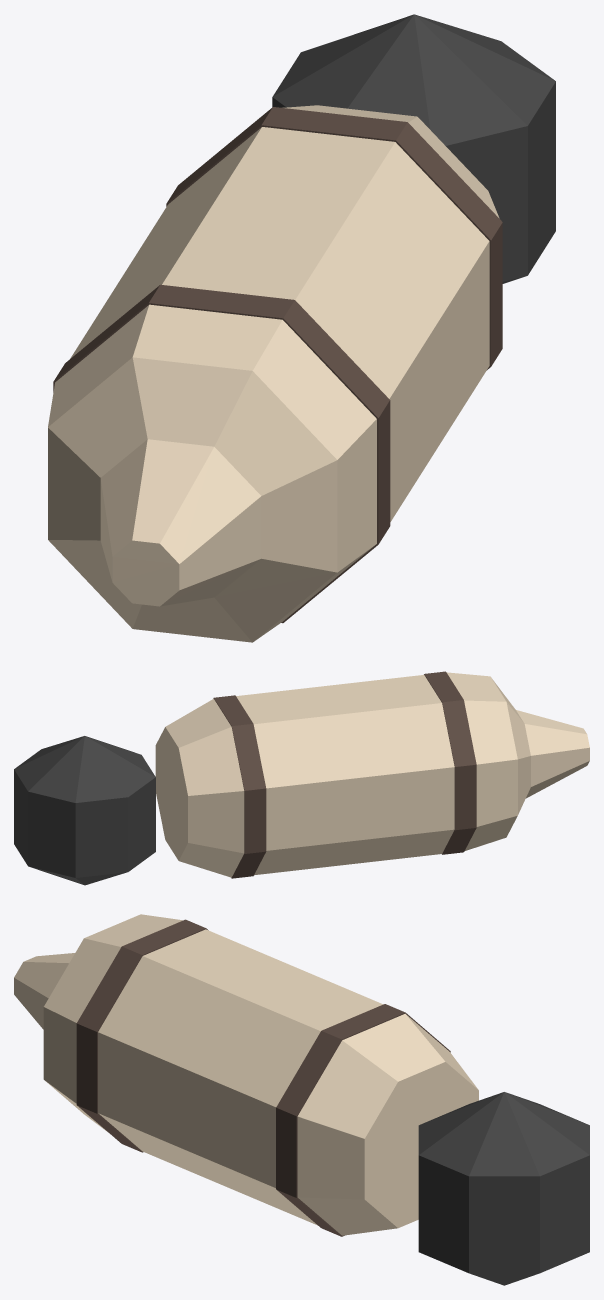
File: ce_ammo2_powder_round_a.obj
3 views of the same model, one above another, from view 1: azimuth 30°, elevation 25°; view 2: azimuth 150°, elevation 25°; view 3: azimuth 270°, elevation 25° (orthographic). The views are drawn at different scales.
Parts seen in each view (by area): view 1: ce_ammo2_powder_round_a_4, ce_ammo2_powder_round_a_1, ce_ammo2_powder_round_a_7, ce_ammo2_powder_round_a_2, ce_ammo2_powder_round_a_0, ce_ammo2_powder_round_a_3, ce_ammo2_powder_round_a_5, ce_ammo2_powder_round_a_6; view 2: ce_ammo2_powder_round_a_4, ce_ammo2_powder_round_a_7, ce_ammo2_powder_round_a_6, ce_ammo2_powder_round_a_2, ce_ammo2_powder_round_a_5, ce_ammo2_powder_round_a_3, ce_ammo2_powder_round_a_0, ce_ammo2_powder_round_a_1; view 3: ce_ammo2_powder_round_a_4, ce_ammo2_powder_round_a_7, ce_ammo2_powder_round_a_6, ce_ammo2_powder_round_a_2, ce_ammo2_powder_round_a_5, ce_ammo2_powder_round_a_3, ce_ammo2_powder_round_a_0.
Part boxes in pixels (left/top/right/bottom): ce_ammo2_powder_round_a_4: left=70, top=127, right=489, bottom=521; ce_ammo2_powder_round_a_1: left=48, top=357, right=337, bottom=642; ce_ammo2_powder_round_a_7: left=272, top=14, right=555, bottom=283; ce_ammo2_powder_round_a_2: left=48, top=304, right=376, bottom=641; ce_ammo2_powder_round_a_0: left=100, top=439, right=261, bottom=606; ce_ammo2_powder_round_a_3: left=53, top=284, right=390, bottom=623; ce_ammo2_powder_round_a_5: left=166, top=107, right=502, bottom=369; ce_ammo2_powder_round_a_6: left=282, top=105, right=499, bottom=218; ce_ammo2_powder_round_a_4: left=236, top=675, right=454, bottom=875; ce_ammo2_powder_round_a_7: left=14, top=736, right=155, bottom=885; ce_ammo2_powder_round_a_6: left=155, top=699, right=244, bottom=877; ce_ammo2_powder_round_a_2: left=446, top=672, right=517, bottom=850; ce_ammo2_powder_round_a_5: left=213, top=695, right=266, bottom=878; ce_ammo2_powder_round_a_3: left=424, top=671, right=476, bottom=854; ce_ammo2_powder_round_a_0: left=516, top=710, right=589, bottom=798; ce_ammo2_powder_round_a_1: left=491, top=677, right=530, bottom=814; ce_ammo2_powder_round_a_4: left=98, top=929, right=382, bottom=1225; ce_ammo2_powder_round_a_7: left=418, top=1092, right=589, bottom=1285; ce_ammo2_powder_round_a_6: left=297, top=1013, right=478, bottom=1235; ce_ammo2_powder_round_a_2: left=43, top=914, right=182, bottom=1131; ce_ammo2_powder_round_a_5: left=276, top=1004, right=450, bottom=1236; ce_ammo2_powder_round_a_3: left=76, top=919, right=208, bottom=1152; ce_ammo2_powder_round_a_0: left=14, top=953, right=74, bottom=1029.
Bounding box in the file's own units: 0.5922 × 0.232 × 0.5922.
